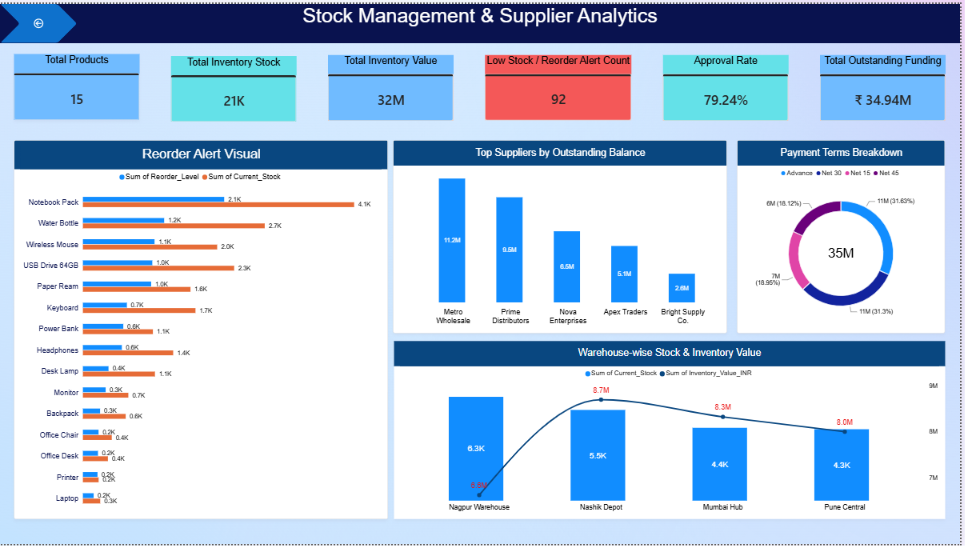

What the dashboard file says about the page in this screenshot:
{"tool":"powerbi","page":{"name":"Page 2","canvas":[1920,1080],"ordinal":1},"visuals":[{"type":"textbox","title":"Stock Management & Supplier Analytics","box":[0,0,1920,78],"z":0},{"type":"cardVisual","title":"Total Products","fields":{"Data":["Count(inventory_funding_system_dataset.Product_Name)"]},"box":[28,100,250.8,131.8],"z":0,"group":"g1"},{"type":"cardVisual","title":"Total Inventory Stock","fields":{"Data":["inventory_funding_system_dataset.Total Current Stock"]},"box":[341.8,104.2,250.8,131.8],"z":1000,"group":"g1"},{"type":"clusteredBarChart","title":"Reorder Alert Visual","fields":{"Category":["inventory_funding_system_dataset.Product_Name"],"Y":["Sum(inventory_funding_system_dataset.Reorder_Level)","Sum(inventory_funding_system_dataset.Current_Stock)"]},"box":[28,272,748,758],"z":1000},{"type":"cardVisual","title":"Total Inventory Value","fields":{"Data":["Sum(inventory_funding_system_dataset.Inventory_Value_INR)"]},"box":[655.6,102.1,250.8,131.8],"z":2000,"group":"g1"},{"type":"columnChart","title":"Top Suppliers by Outstanding Balance","fields":{"Category":["inventory_funding_system_dataset.Supplier"],"Y":["Sum(inventory_funding_system_dataset.Outstanding_Funding_INR)"]},"box":[786,272,668,386],"z":2000},{"type":"cardVisual","title":"Low Stock / Reorder Alert Count","fields":{"Data":["inventory_funding_system_dataset.Low Stock Count"]},"box":[969.5,102.4,292.9,131.2],"z":3000,"group":"g1"},{"type":"lineStackedColumnComboChart","title":"Warehouse-wise Stock & Inventory Value","fields":{"Category":["inventory_funding_system_dataset.Warehouse"],"Y":["Sum(inventory_funding_system_dataset.Current_Stock)"],"Y2":["Sum(inventory_funding_system_dataset.Inventory_Value_INR)"]},"box":[788,674,1102,356],"z":3000},{"type":"cardVisual","title":"Approval Rate","fields":{"Data":["inventory_funding_system_dataset.Approval Rate"]},"box":[1325.4,102.1,250.8,131.8],"z":4000,"group":"g1"},{"type":"donutChart","title":"Payment Terms Breakdown","fields":{"Category":["inventory_funding_system_dataset.Payment_Terms"],"Y":["Sum(inventory_funding_system_dataset.Outstanding_Funding_INR)"]},"box":[1474,272,416,386],"z":4000},{"type":"group","id":"g1","title":"Group 1","box":[28,100,1862,136],"z":5000},{"type":"cardVisual","title":"Total Outstanding Funding","fields":{"Data":["Sum(inventory_funding_system_dataset.Outstanding_Funding_INR)"]},"box":[1639.2,102.1,250.8,131.8],"z":5000,"group":"g1"},{"type":"actionButton","box":[0,0,154,78],"z":5001}]}

Visuals, with their boxes in screenshot pixels (x1, y1, x2, y2), scaled from the page's 1920x1080 canvas onto the 965x546 screenshot:
"Stock Management & Supplier Analytics" textbox: Rect(0, 0, 964, 39)
"Total Products" cardVisual: Rect(14, 51, 140, 117)
"Total Inventory Stock" cardVisual: Rect(172, 53, 298, 119)
"Reorder Alert Visual" clusteredBarChart: Rect(14, 138, 390, 521)
"Total Inventory Value" cardVisual: Rect(330, 52, 456, 118)
"Top Suppliers by Outstanding Balance" columnChart: Rect(395, 138, 731, 333)
"Low Stock / Reorder Alert Count" cardVisual: Rect(487, 52, 634, 118)
"Warehouse-wise Stock & Inventory Value" lineStackedColumnComboChart: Rect(396, 341, 950, 521)
"Approval Rate" cardVisual: Rect(666, 52, 792, 118)
"Payment Terms Breakdown" donutChart: Rect(741, 138, 950, 333)
"Group 1" group: Rect(14, 51, 950, 119)
"Total Outstanding Funding" cardVisual: Rect(824, 52, 950, 118)
actionButton: Rect(0, 0, 77, 39)
